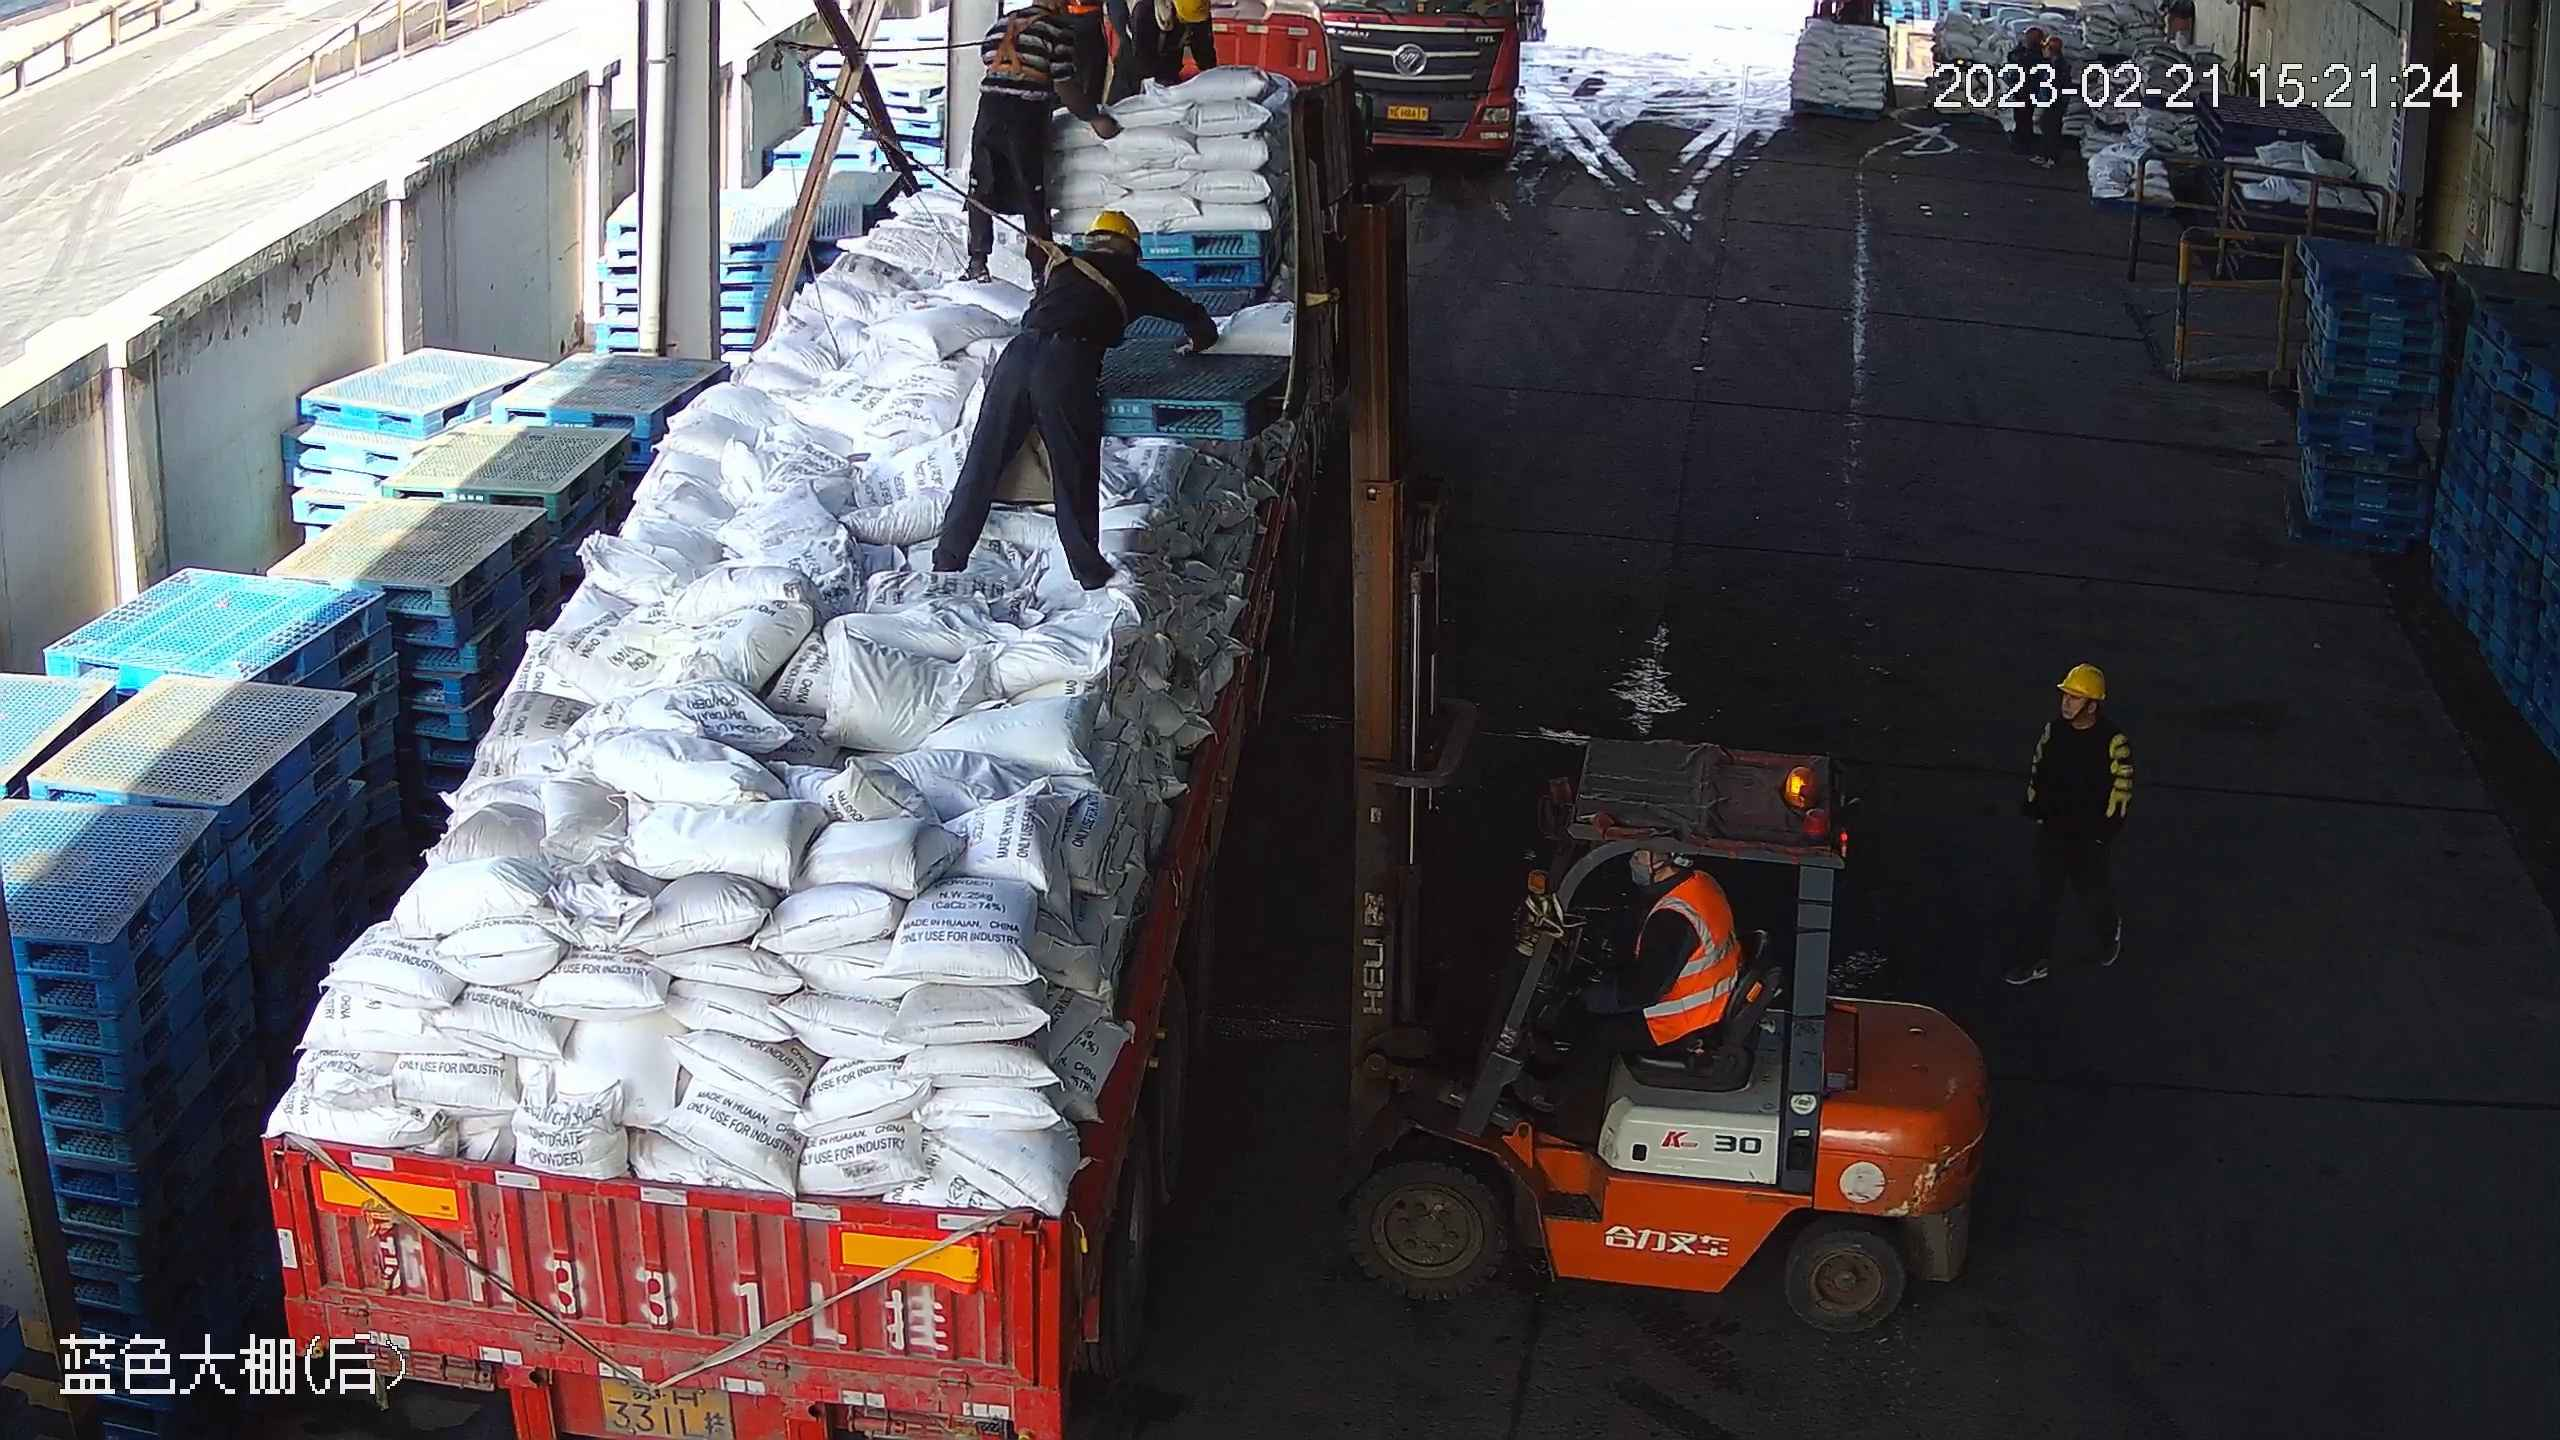belt: (1016, 240, 1104, 318)
head: (1039, 209, 1156, 315), (2042, 669, 2121, 758)
helmet: (2055, 662, 2118, 702), (1081, 213, 1139, 253)
people: (937, 206, 1209, 590), (1535, 858, 1751, 1118), (2004, 648, 2139, 990)
truck: (228, 1, 1337, 1440)
